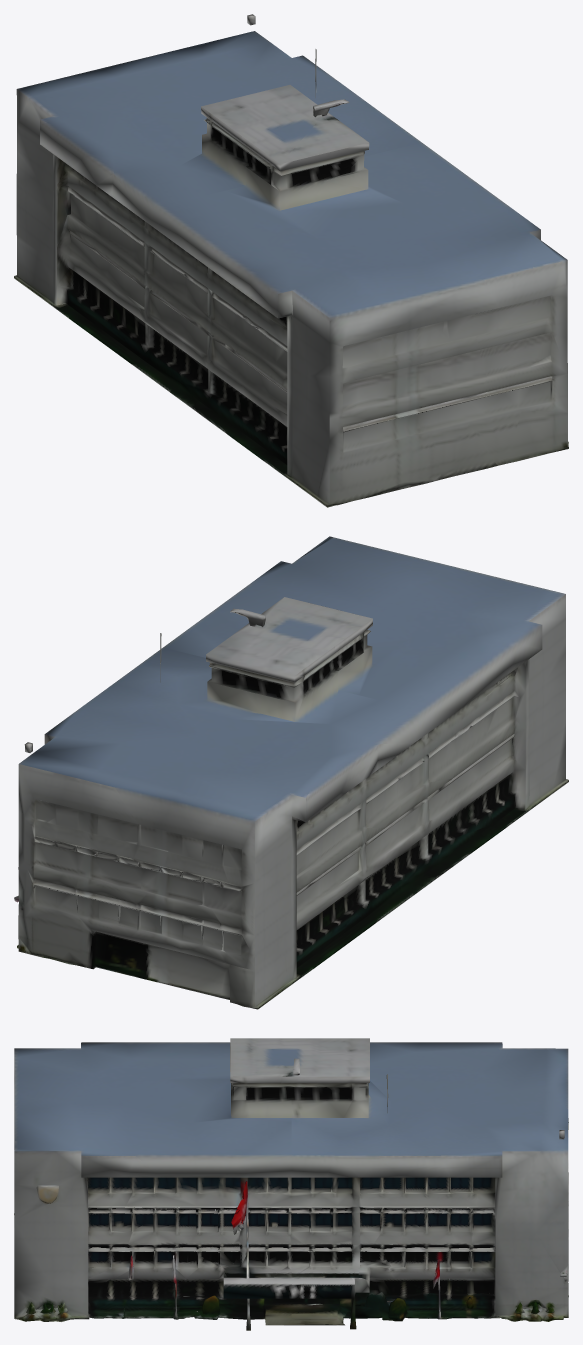
File: kantor_tni.glb
The picture shows the model from 3 angles, top to bottom: view 1: azimuth 30°, elevation 25°; view 2: azimuth 150°, elevation 25°; view 3: azimuth 270°, elevation 25°; orthographic projection. The views are drawn at different scales.
Parts seen in each view (by area): view 1: tripo_node_908ddbb5; view 2: tripo_node_908ddbb5; view 3: tripo_node_908ddbb5.
Part boxes in pixels (bbox=[...]): tripo_node_908ddbb5: bbox=[14, 14, 568, 507]; tripo_node_908ddbb5: bbox=[14, 536, 568, 1009]; tripo_node_908ddbb5: bbox=[14, 1038, 568, 1330].
Bounding box in the file's own units: 54.48 × 45.27 × 100.
1 material, 1 textured.
